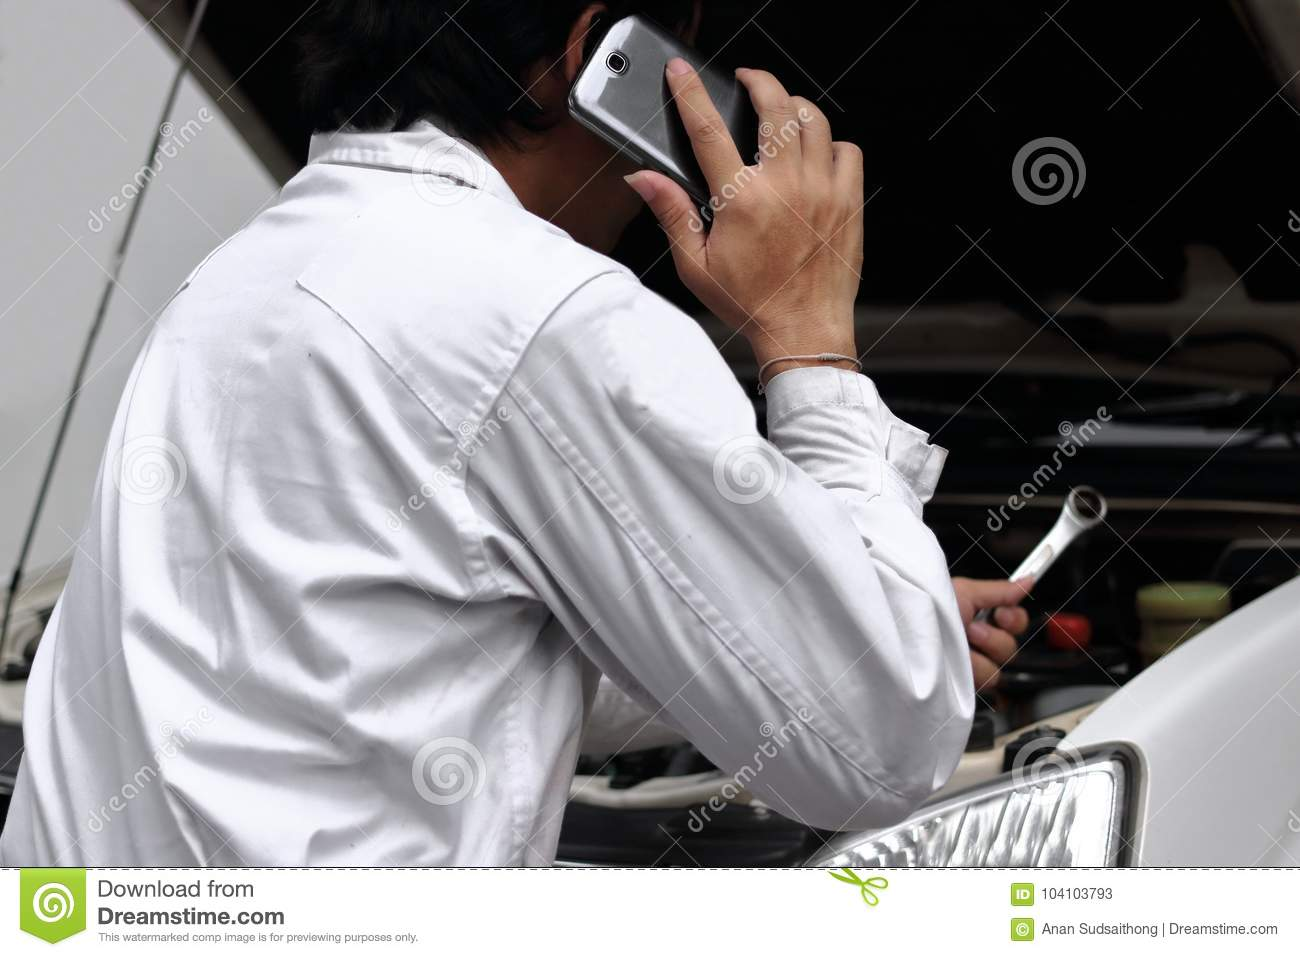phone: (571, 20, 783, 216)
